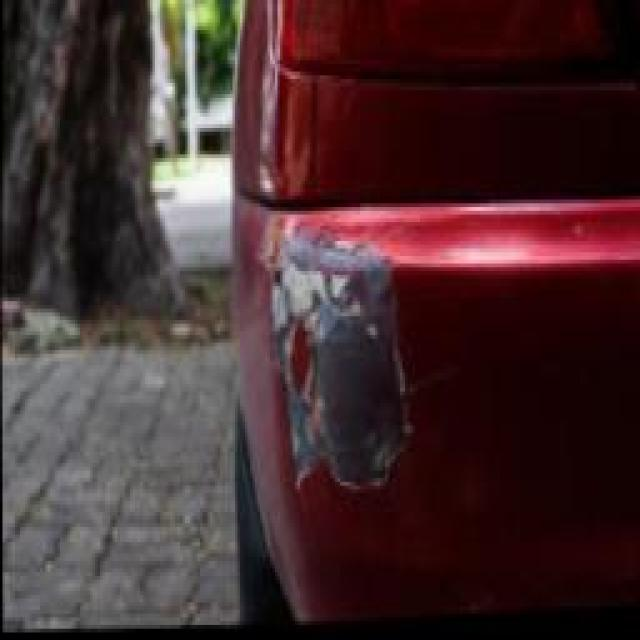Bumper: (242, 192, 639, 624)
